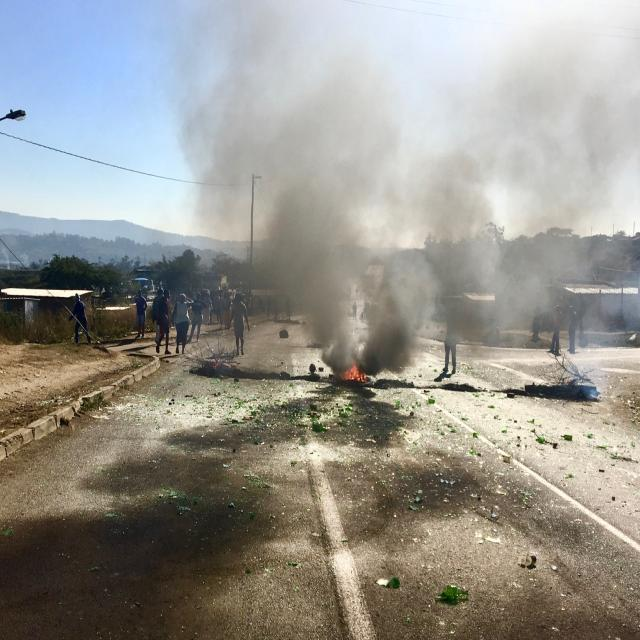smoke: (258, 119, 581, 306)
